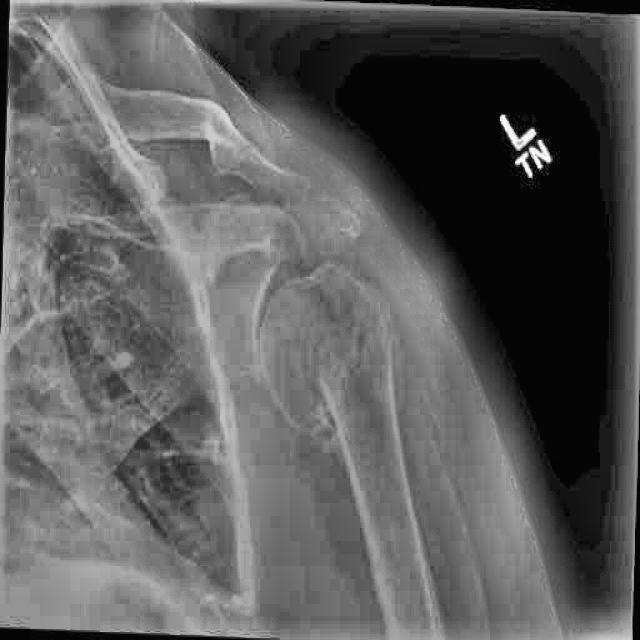shoulder fracture: (185, 93, 273, 199)
